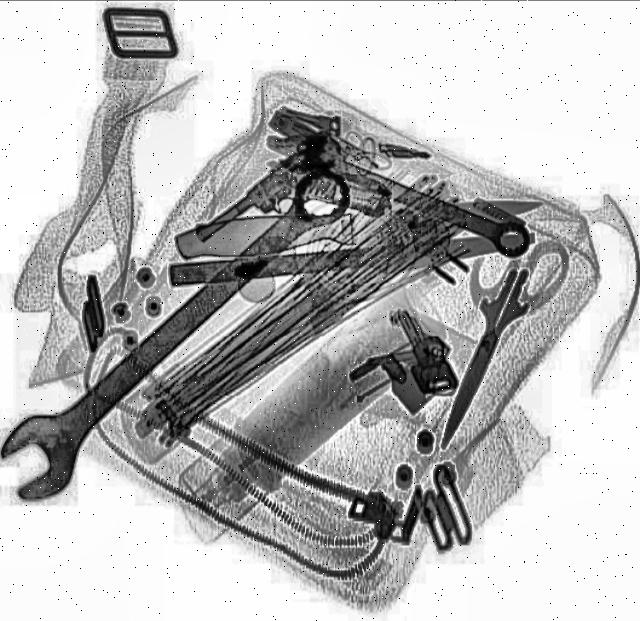Gun: (192, 128, 396, 308)
Knife: (171, 188, 541, 266), (419, 264, 541, 456), (167, 228, 537, 288)
Wrench: (0, 156, 372, 494), (269, 129, 536, 265)
